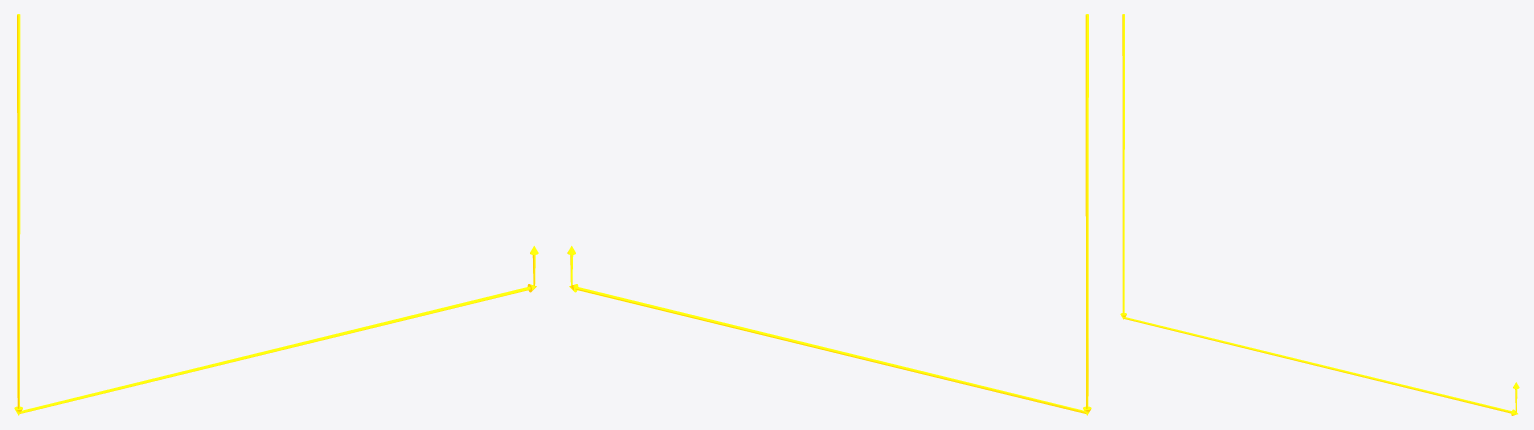
Rendered from online_condition_monitoring_system_flow.glb.
3 renders of one model, left to right at view 1: azimuth 30°, elevation 25°; view 2: azimuth 150°, elevation 25°; view 3: azimuth 330°, elevation 25°, orthographic. The views are drawn at different scales.
Visible parts, largest first — view 1: network; view 2: network; view 3: network.
Boxes of the visible parts, <box> form: network: <box>14,14,538,415</box>; network: <box>567,14,1091,415</box>; network: <box>1120,14,1519,415</box>.
Size of the model in its own units: 2.13 by 1.57 by 0.0312.
